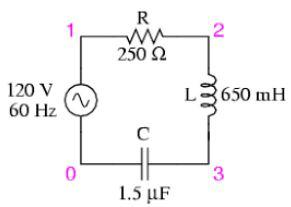Capacitor: (130, 137, 160, 185)
